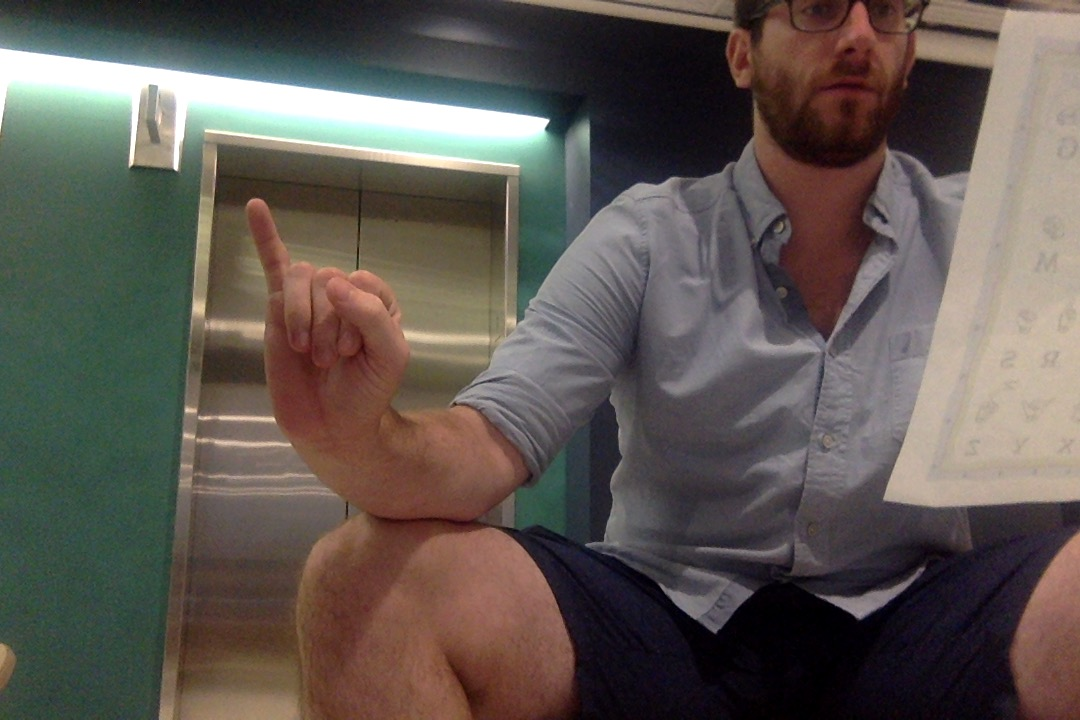i: (241, 193, 416, 453)
